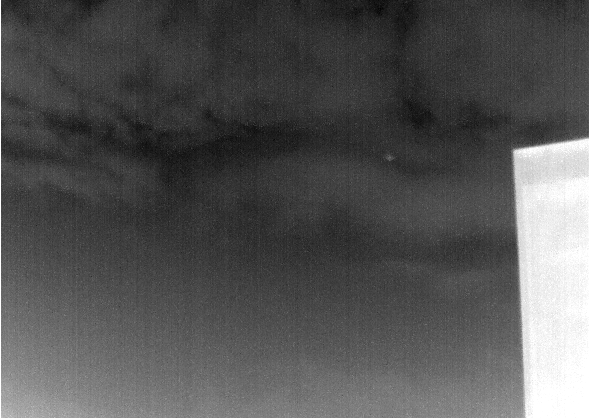dim target: (384, 154, 396, 161)
